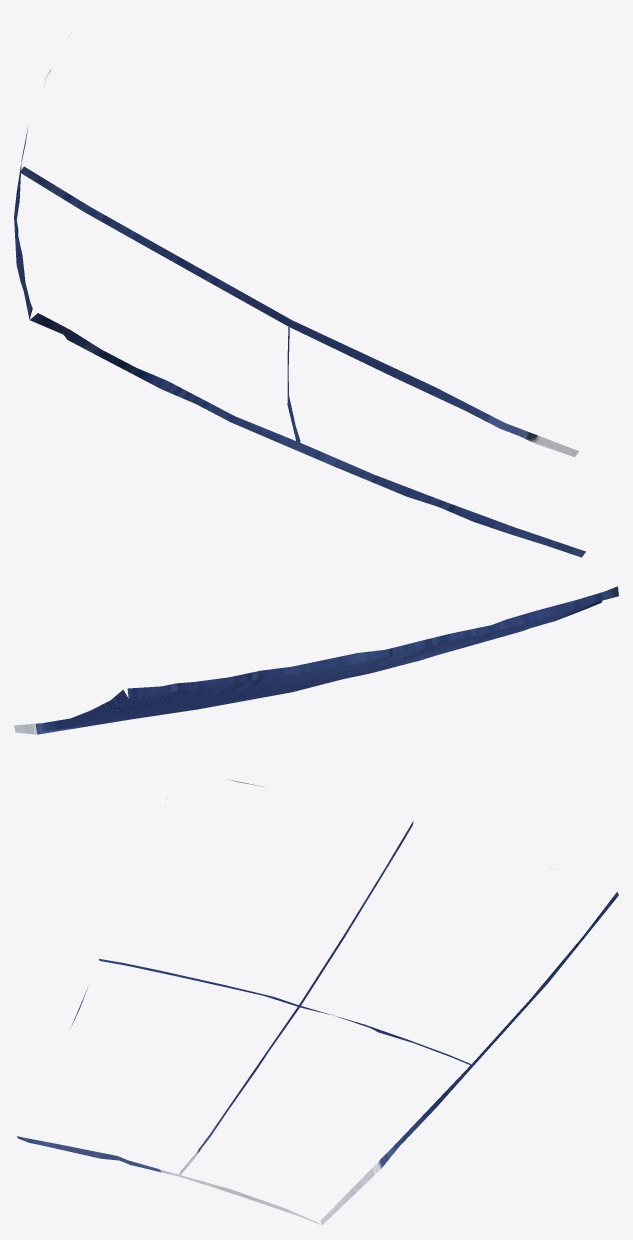
3 views of the same model, one above another, from view 1: azimuth 30°, elevation 25°; view 2: azimuth 150°, elevation 25°; view 3: azimuth 270°, elevation 25° (orthographic). The views are drawn at different scales.
Size of the model in its own units: 1562028 by 623468 by 1590322.
Materials: 1 (1 with a texture image).
